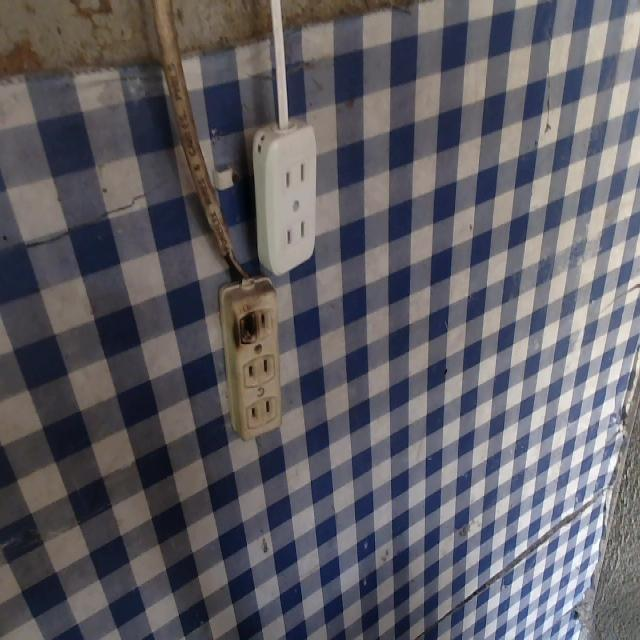-: (229, 302, 263, 350)
